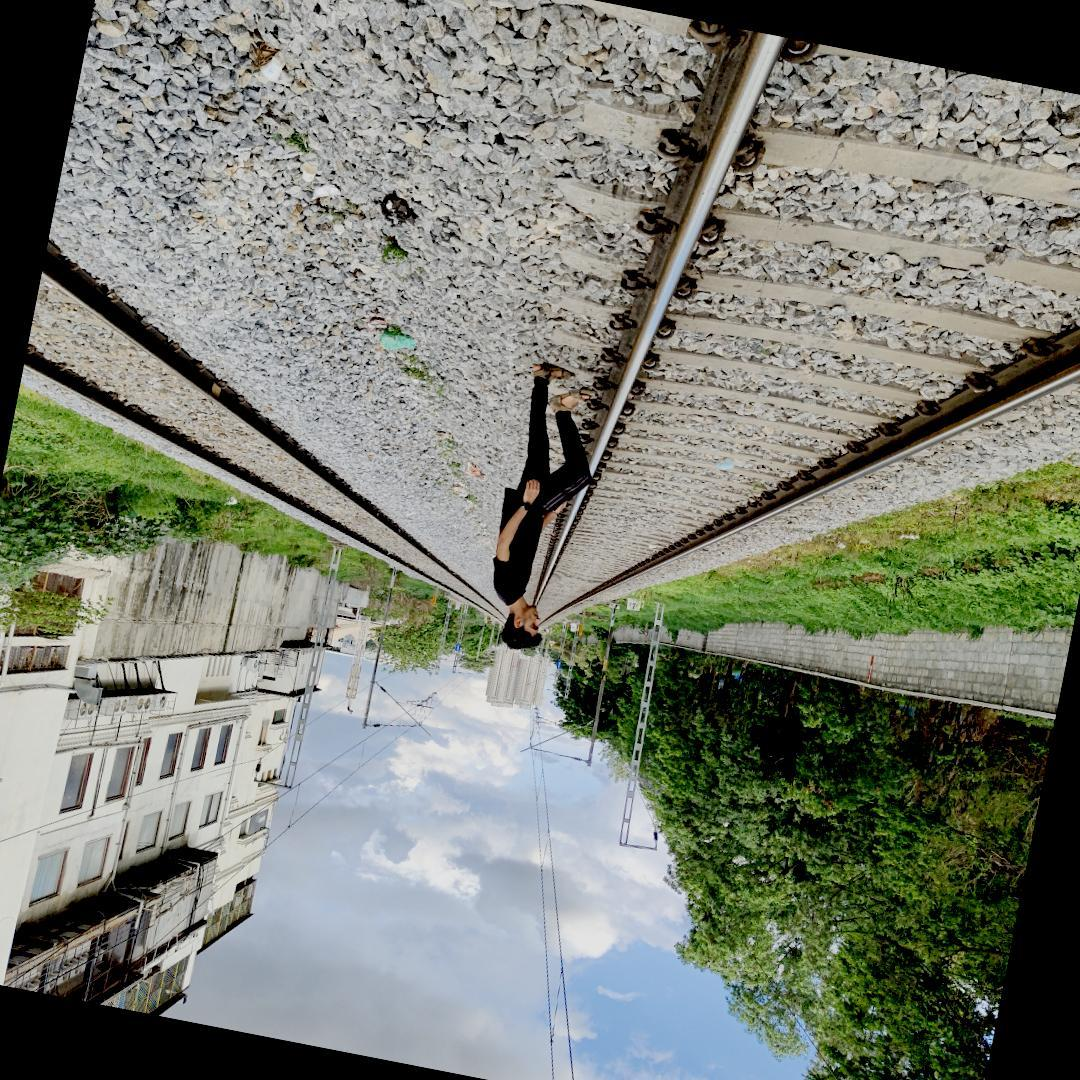standing: (457, 346, 623, 668)
